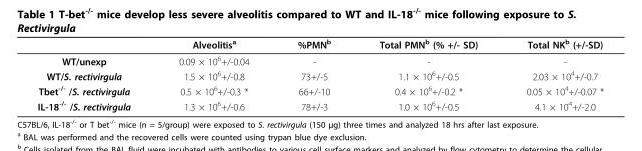table: (36, 37, 603, 111)
table column: (354, 37, 501, 111), (36, 37, 154, 111), (154, 37, 272, 111), (501, 37, 603, 111), (272, 37, 354, 111)
table column header: (36, 37, 603, 52)
table row: (36, 37, 603, 52), (36, 52, 603, 67), (36, 67, 603, 82), (36, 82, 603, 97), (36, 97, 603, 111)
